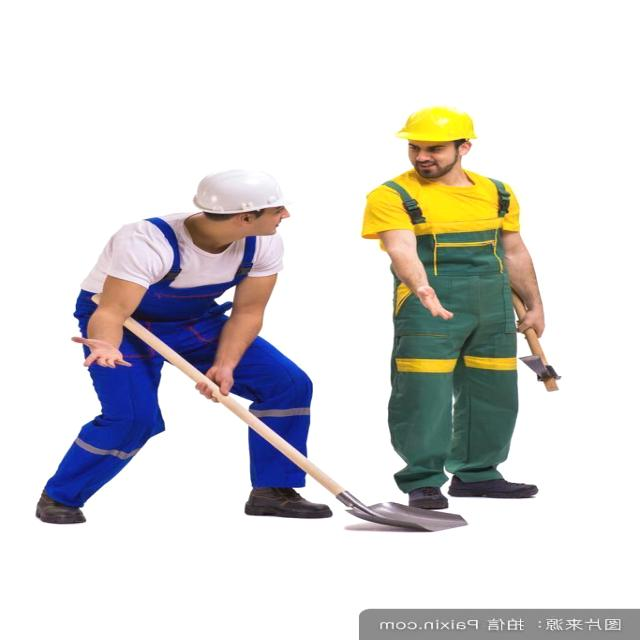face_nomask: (402, 136, 465, 177), (244, 202, 292, 236)
hand_noglove: (185, 364, 238, 407), (66, 336, 136, 368), (414, 283, 460, 320), (516, 300, 557, 338)
head_helmet: (190, 166, 298, 213), (393, 108, 478, 142)
person: (34, 164, 331, 520), (371, 118, 516, 518)
shoes: (234, 480, 343, 522), (443, 466, 544, 503), (26, 481, 98, 527), (399, 474, 459, 512)
